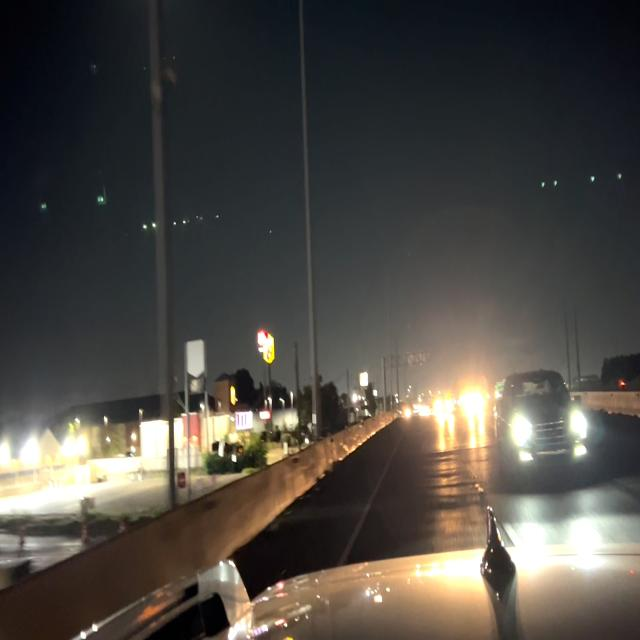back-of-sign: (404, 346, 432, 372)
